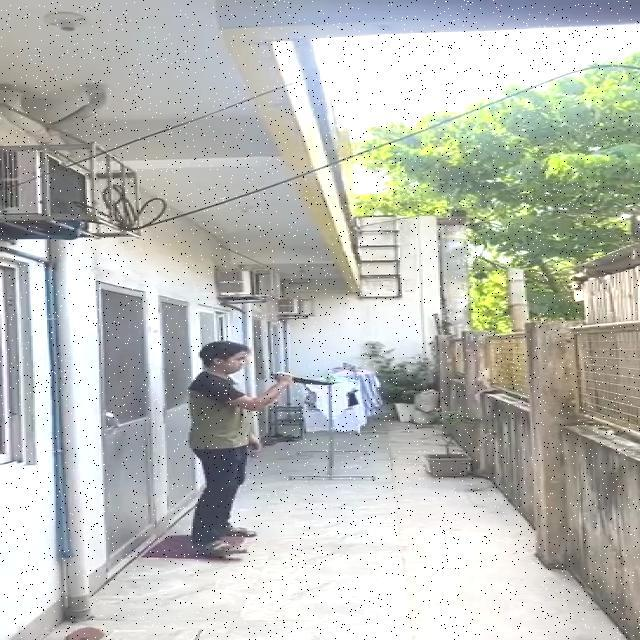knife: (292, 376, 333, 386)
non-violence: (188, 341, 336, 554)
